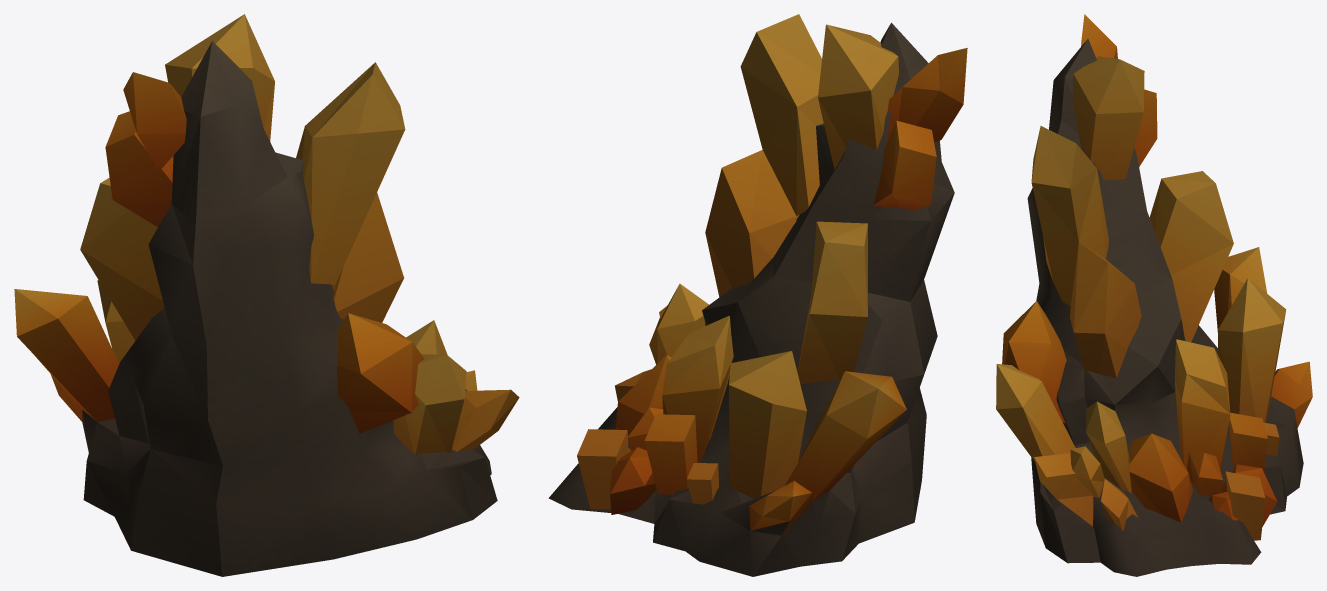
File: ZLP_Crystalk_D_6.FBX
3 renders of one model, left to right at view 1: azimuth 30°, elevation 25°; view 2: azimuth 150°, elevation 25°; view 3: azimuth 270°, elevation 25°, orthographic. The views are drawn at different scales.
Parts seen in each view (by area): view 1: ZLP_Crystalk_D_6; view 2: ZLP_Crystalk_D_6; view 3: ZLP_Crystalk_D_6.
Boxes of the visible parts, <box> form: ZLP_Crystalk_D_6: <box>14,14,519,576</box>; ZLP_Crystalk_D_6: <box>548,14,967,576</box>; ZLP_Crystalk_D_6: <box>996,14,1312,576</box>.
Size of the model in its own units: 268 by 320 by 220.
